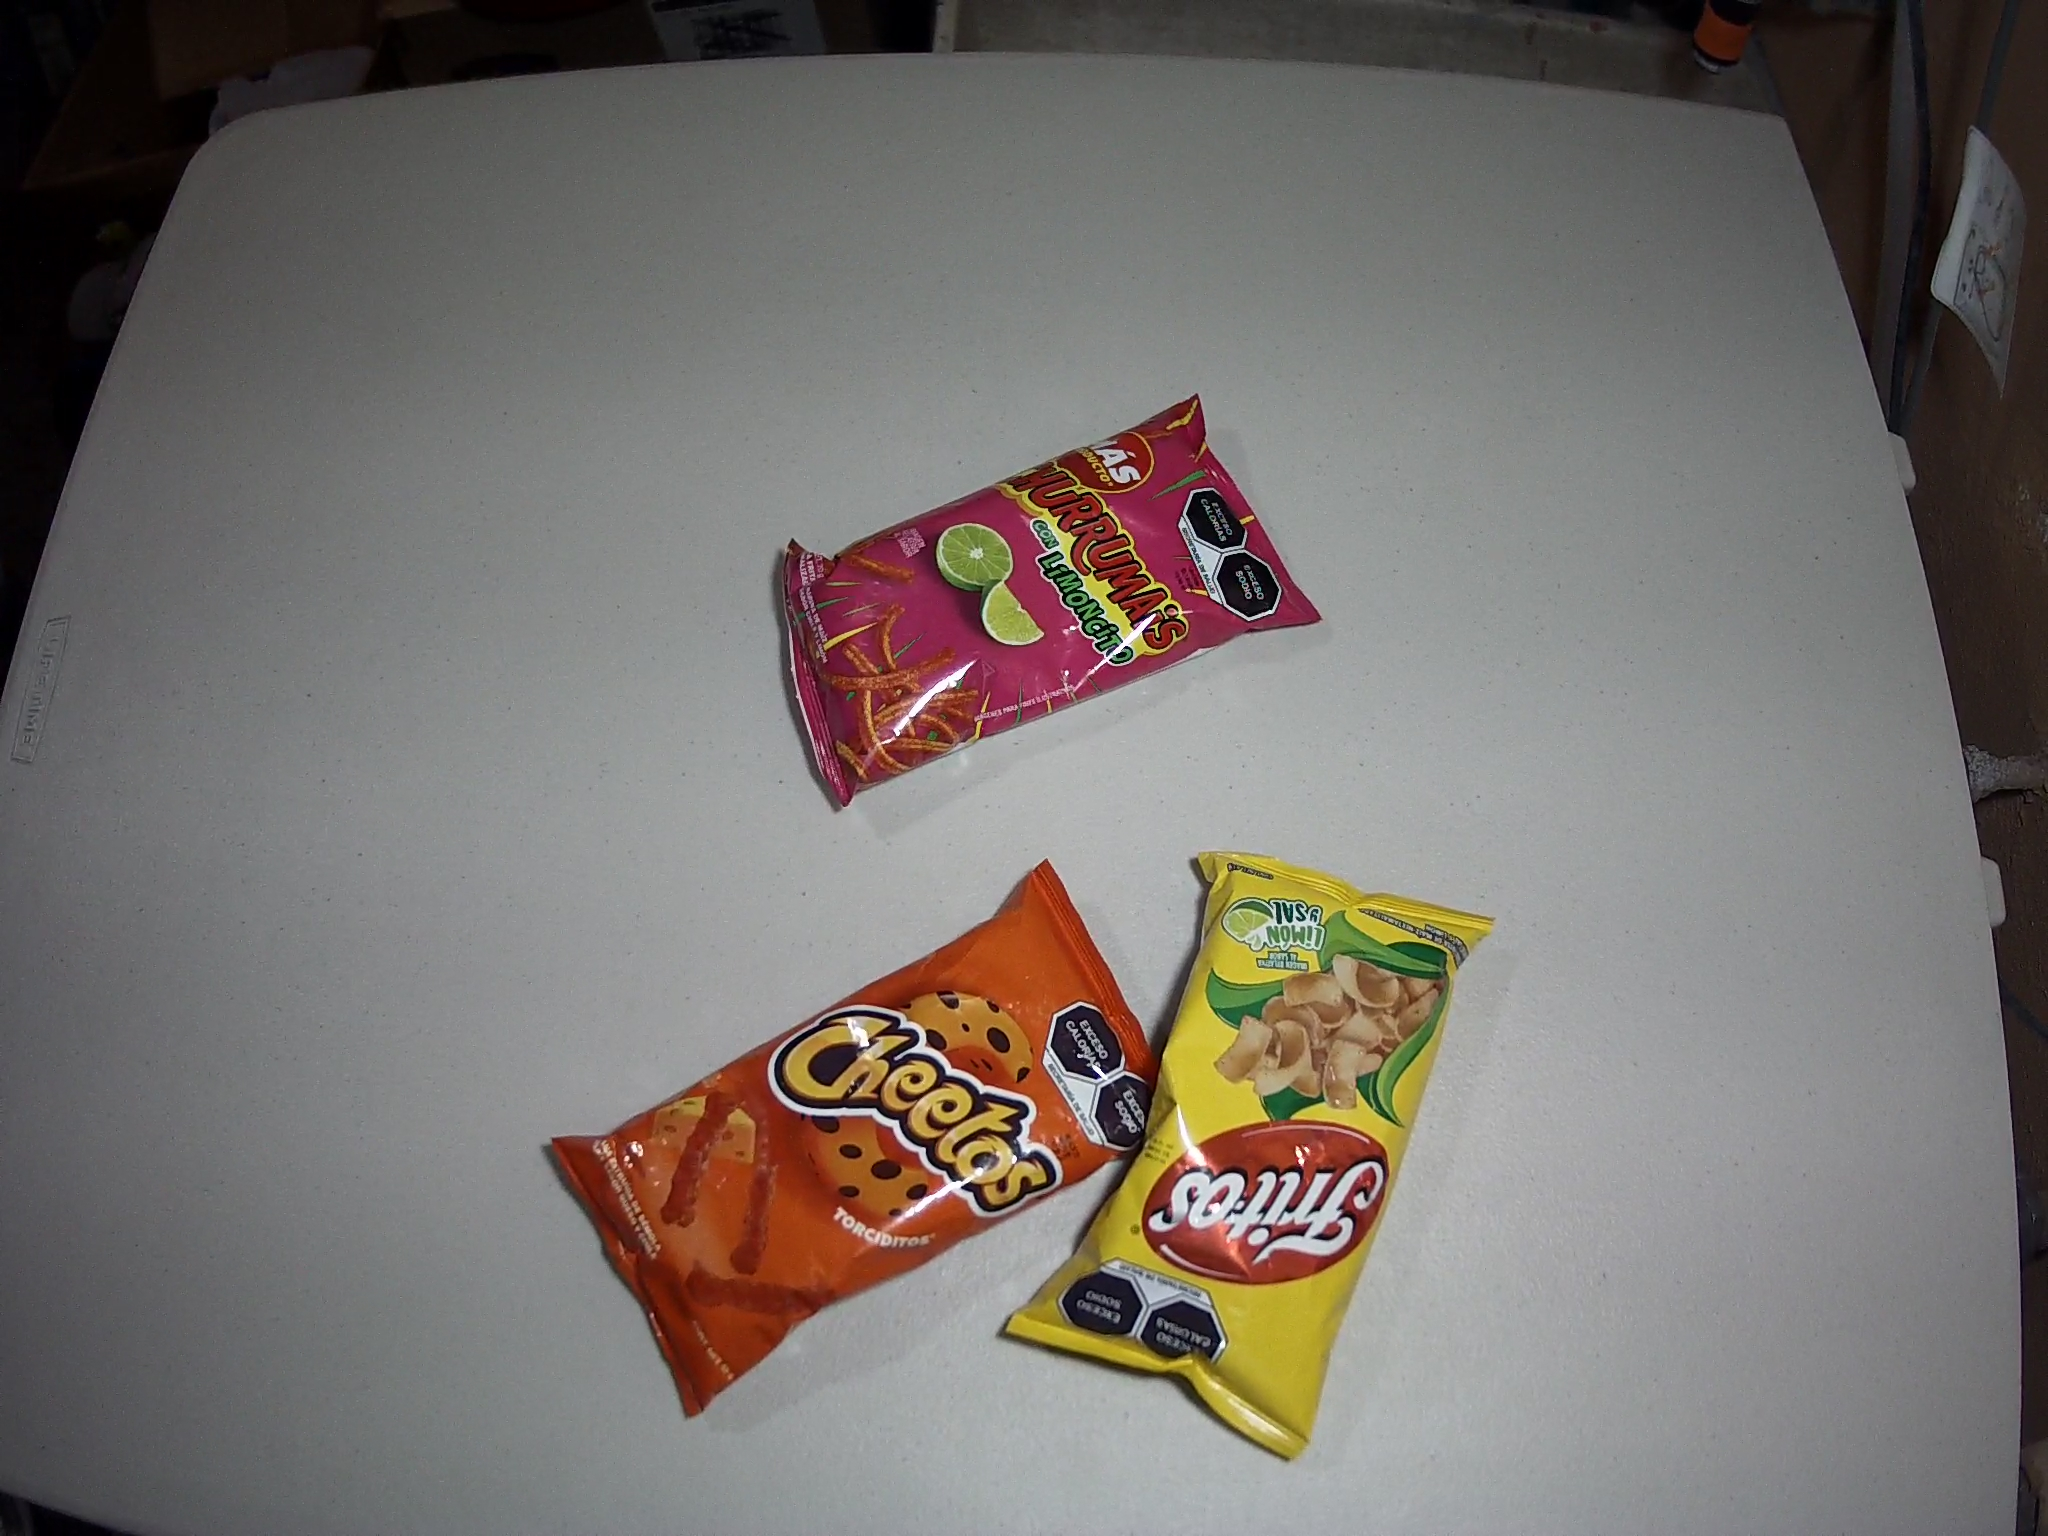CheetosTorciditos_55_F: (553, 855, 1190, 1417)
Churrumais_70_F: (777, 392, 1329, 808)
FritosSalLimon_65_F: (1005, 850, 1496, 1463)
